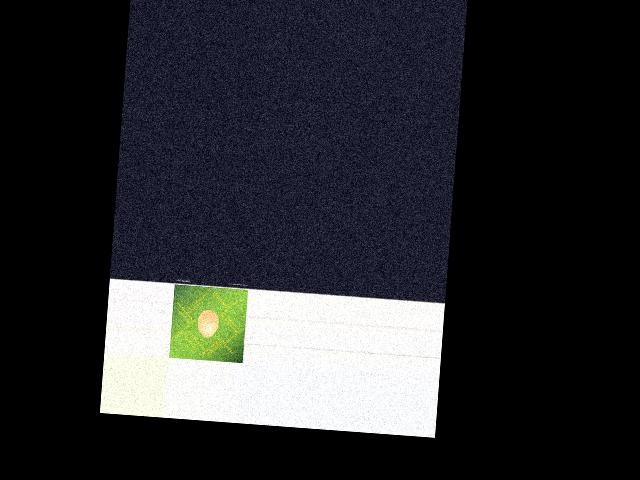egg: (197, 309, 219, 337)
